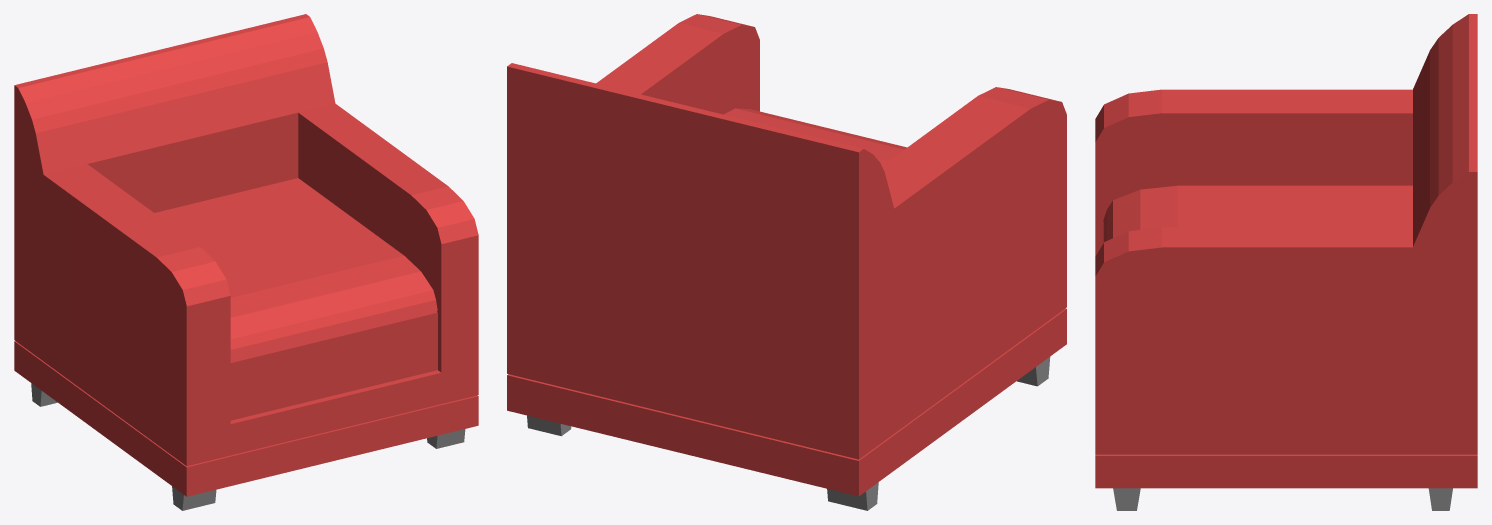
The model's file is Lounge Sofa.glb.
3 renders of one model, left to right at view 1: azimuth 30°, elevation 25°; view 2: azimuth 150°, elevation 25°; view 3: azimuth 270°, elevation 25°, orthographic. The views are drawn at different scales.
Parts seen in each view (by area): view 1: Sofa; view 2: Sofa; view 3: Sofa.
Boxes of the visible parts, x1,y1,x2,y2 form: Sofa: [14, 14, 478, 510]; Sofa: [507, 14, 1066, 510]; Sofa: [1095, 14, 1477, 510].
Bounding box in the file's own units: 0.9801 × 0.9883 × 1.
Materials: 1 (1 with a texture image).
